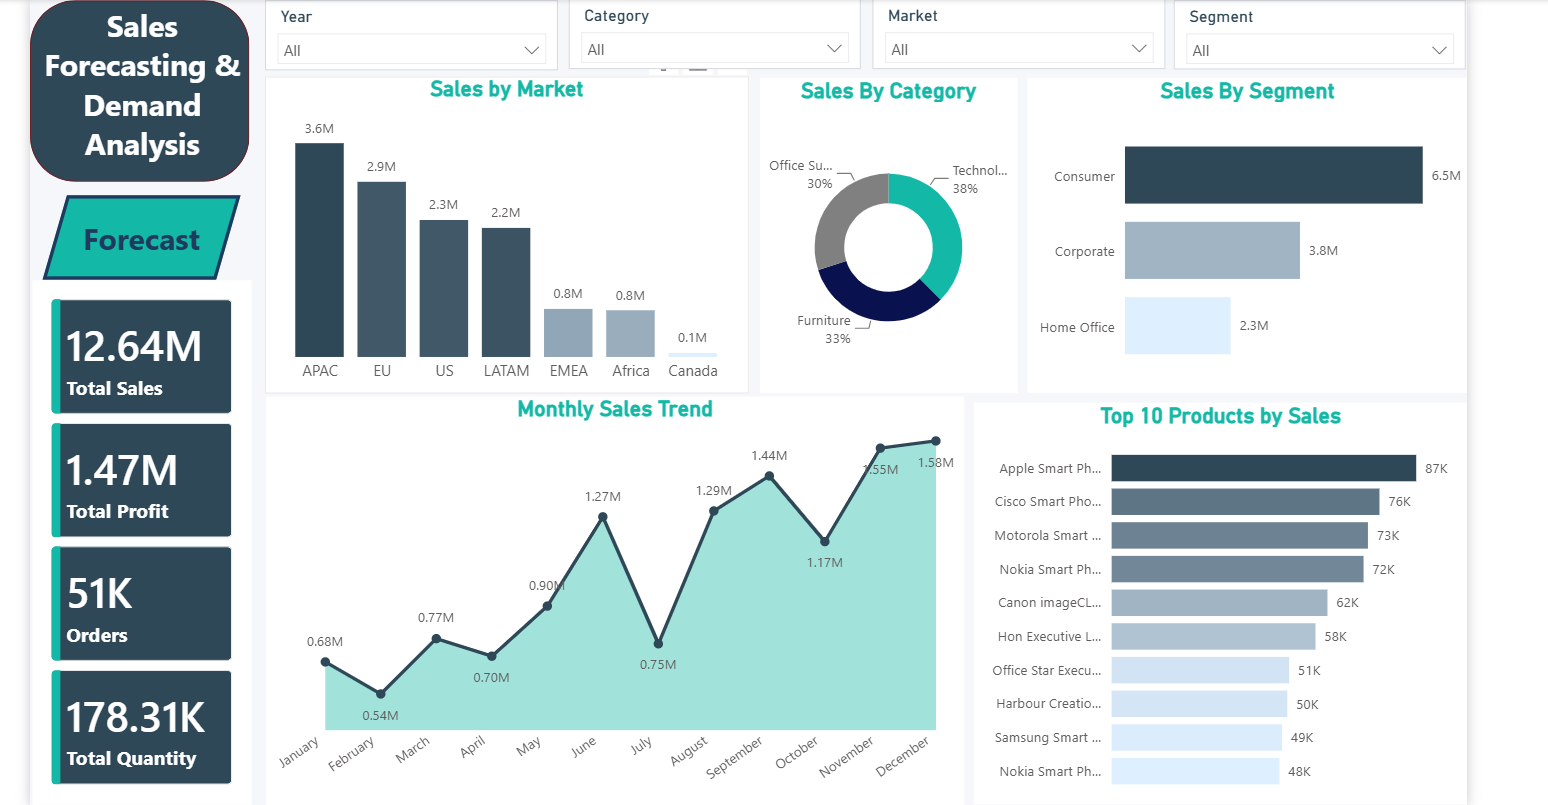

Layout of this report page (visuals, bound fields, positions):
{"tool":"powerbi","page":{"name":"Dashboard","canvas":[1280,720],"ordinal":0},"visuals":[{"type":"cardVisual","fields":{"Data":["Global Superstore.Total_Sales","Global Superstore.Total_Profit","Global Superstore.Orders","Global Superstore.Quantity_Ordered"]},"box":[2.5,250,195,467.5],"z":0},{"type":"columnChart","title":"Sales by Market","fields":{"Category":["Global Superstore.Market"],"Y":["Sum(Global Superstore.Sales)"]},"box":[209.7,69.4,430.9,282],"z":1000},{"type":"donutChart","title":"Sales By Category","fields":{"Y":["Sum(Global Superstore.Sales)"],"Category":["Global Superstore.Category"]},"box":[650.3,70,229.2,281.1],"z":2000},{"type":"clusteredBarChart","title":"Sales By Segment","fields":{"Category":["Global Superstore.Segment"],"Y":["Sum(Global Superstore.Sales)"]},"box":[887.9,70,392.1,281.1],"z":3000},{"type":"barChart","title":"Top 10 Products by Sales","fields":{"Y":["Sum(Global Superstore.Sales)"],"Category":["Global Superstore.Product Name"]},"box":[840,360,440,357.5],"z":4000},{"type":"shape","box":[0,1.2,195.4,161.7],"z":5000},{"type":"textbox","box":[2.4,0,195.4,162.9],"z":6000},{"type":"slicer","fields":{"Values":["DateTable.Date.Variation.Date Hierarchy.Year"]},"box":[209.5,1.4,260.8,62.7],"z":7000},{"type":"slicer","fields":{"Values":["Global Superstore.Category"]},"box":[480,0,260,62.5],"z":8000},{"type":"slicer","fields":{"Values":["Global Superstore.Market"]},"box":[749.8,0,260.8,62.7],"z":9000},{"type":"slicer","fields":{"Values":["Global Superstore.Segment"]},"box":[1018.8,1.2,260,61.2],"z":10000},{"type":"lineChart","title":"Monthly Sales Trend","fields":{"Y":["Sum(Global Superstore.Sales)"],"Category":["DateTable.Date.Variation.Date Hierarchy.Month"]},"box":[209.9,353.5,621.3,364.3],"z":11000},{"type":"shape","box":[11.6,175,176.4,75.2],"z":12000}]}

Visuals, with their boxes on the page's 1280x720 design canvas (x1, y1, x2, y2). These are canvas units, not pixel positions in the 1548x805 screenshot, which may show the page scaled, cropped or inside an application window:
cardVisual - Global Superstore.Total_Sales x Global Superstore.Total_Profit: [x1=2, y1=250, x2=198, y2=718]
"Sales by Market" columnChart: [x1=210, y1=69, x2=641, y2=351]
"Sales By Category" donutChart: [x1=650, y1=70, x2=880, y2=351]
"Sales By Segment" clusteredBarChart: [x1=888, y1=70, x2=1280, y2=351]
"Top 10 Products by Sales" barChart: [x1=840, y1=360, x2=1280, y2=718]
shape: [x1=0, y1=1, x2=195, y2=163]
textbox: [x1=2, y1=0, x2=198, y2=163]
slicer - DateTable.Date.Variation.Date Hierarchy.Year: [x1=210, y1=1, x2=470, y2=64]
slicer - Global Superstore.Category: [x1=480, y1=0, x2=740, y2=62]
slicer - Global Superstore.Market: [x1=750, y1=0, x2=1011, y2=63]
slicer - Global Superstore.Segment: [x1=1019, y1=1, x2=1279, y2=62]
"Monthly Sales Trend" lineChart: [x1=210, y1=354, x2=831, y2=718]
shape: [x1=12, y1=175, x2=188, y2=250]
